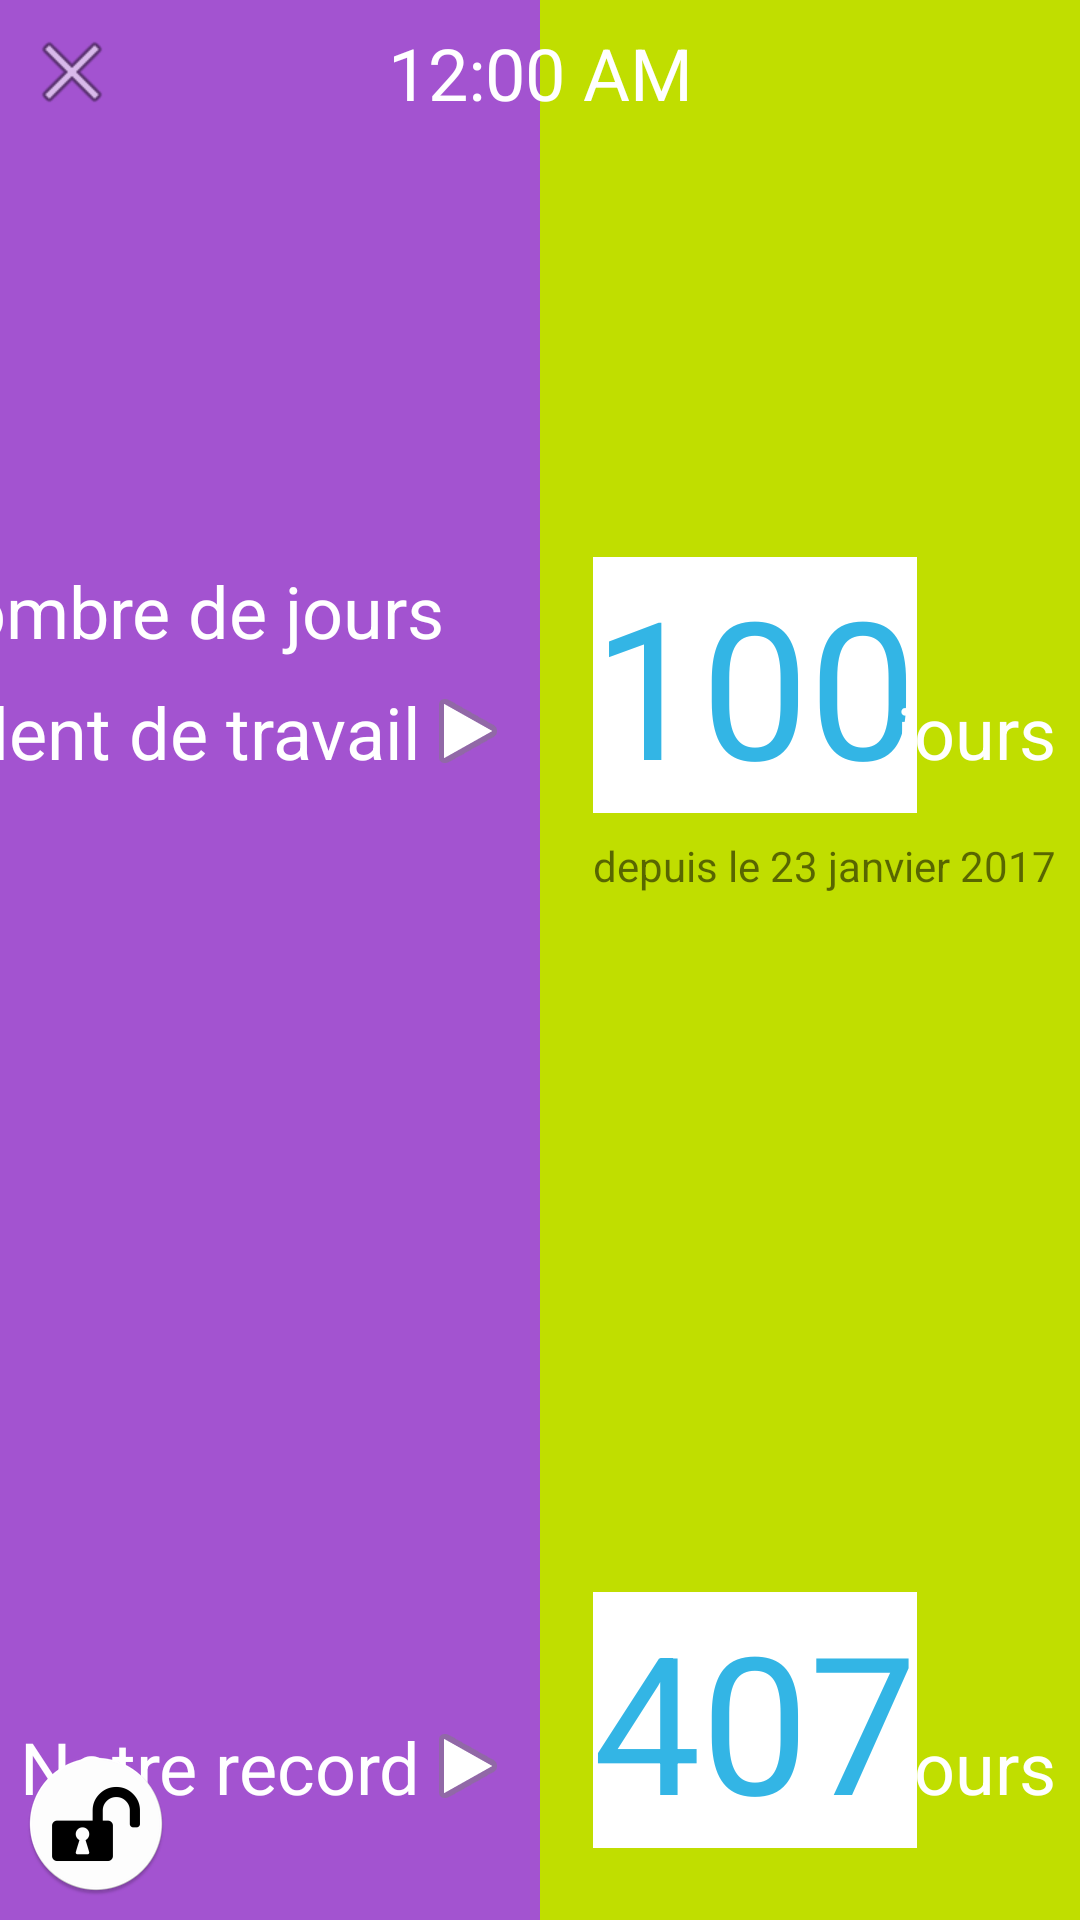

Locate icon controls on the screen. Image size 1080w x 1920h, boxes as (x1, y1, x2, y2).
close clear cancel: (42, 42, 102, 102)
unlock: (26, 1752, 168, 1893)
